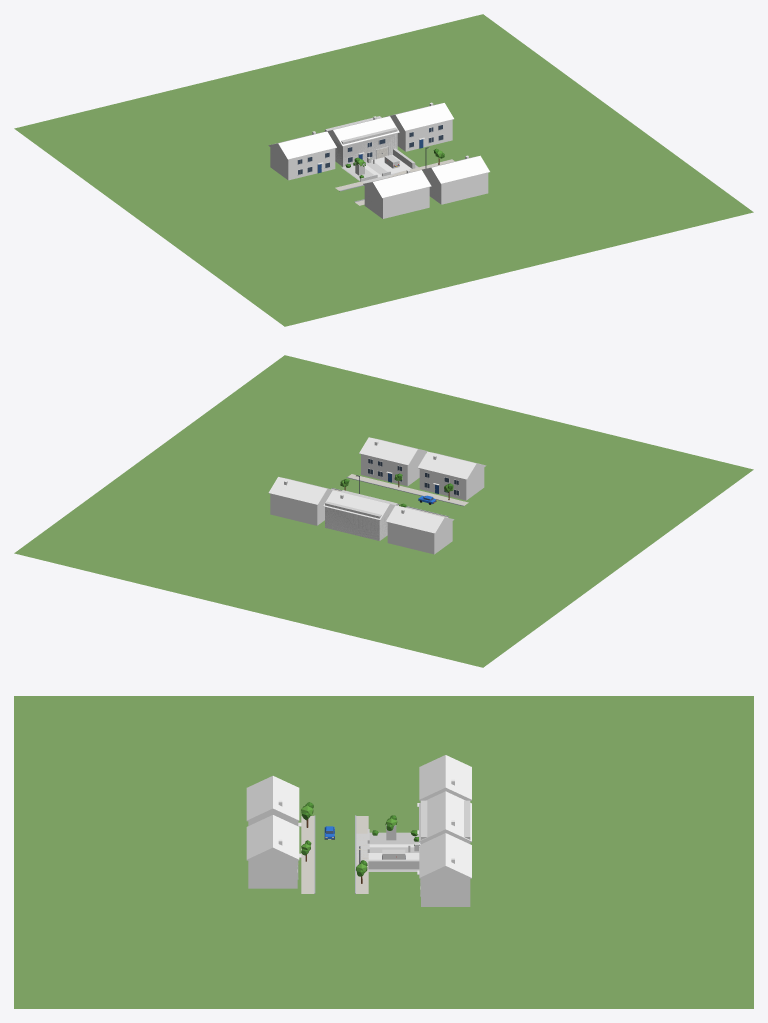
The model's file is job1.glb.
3 views of the same model, one above another, from view 1: azimuth 30°, elevation 25°; view 2: azimuth 150°, elevation 25°; view 3: azimuth 270°, elevation 25° (orthographic). The views are drawn at different scales.
Visible parts, largest first — view 1: j1_bg, j1_col_1; view 2: j1_bg, j1_col_1; view 3: j1_bg, j1_col_4, j1_col_1.
Boxes of the visible parts, x1,y1,x2,y2 form: j1_bg: [14, 14, 753, 326]; j1_col_1: [325, 116, 397, 166]; j1_bg: [14, 355, 753, 667]; j1_col_1: [325, 490, 397, 540]; j1_bg: [14, 696, 753, 1008]; j1_col_4: [368, 859, 419, 869]; j1_col_1: [421, 800, 470, 839].
Bounding box in the file's own units: 120 × 7.65 × 120.
